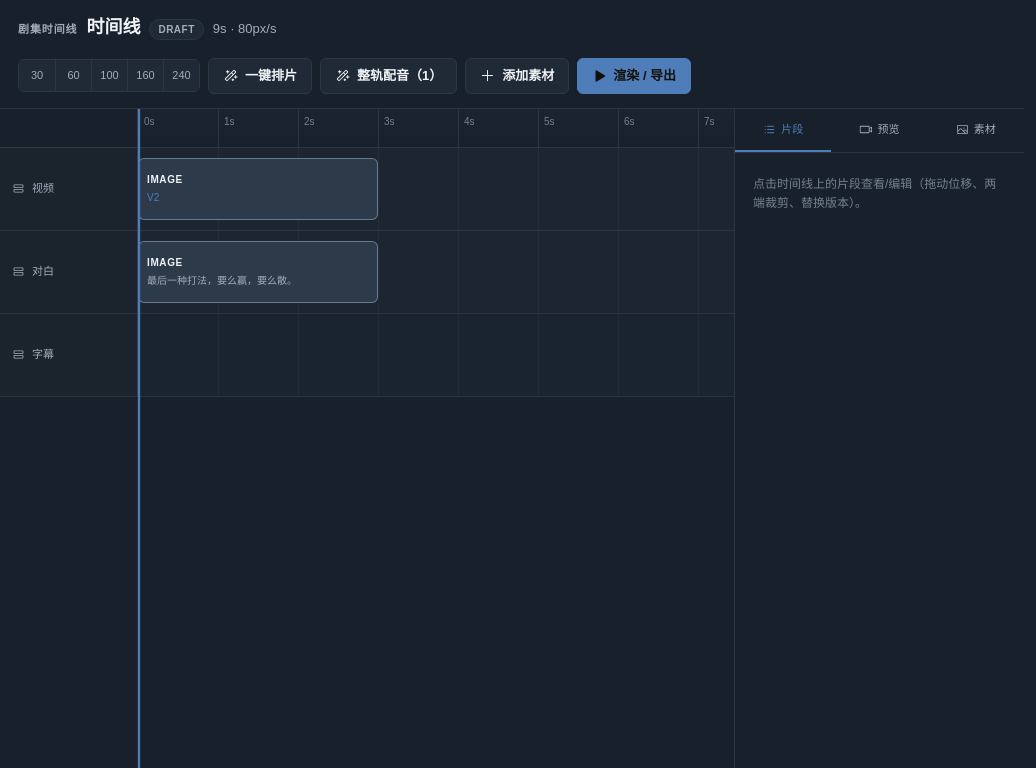
it: TimelineView › C1: batch voiceover is offered for VOICE clips with text and submits
The width and height of the screenshot is (1036, 768).
Click the button "整轨配音（1）" at (389, 76), box [320,58,457,94]
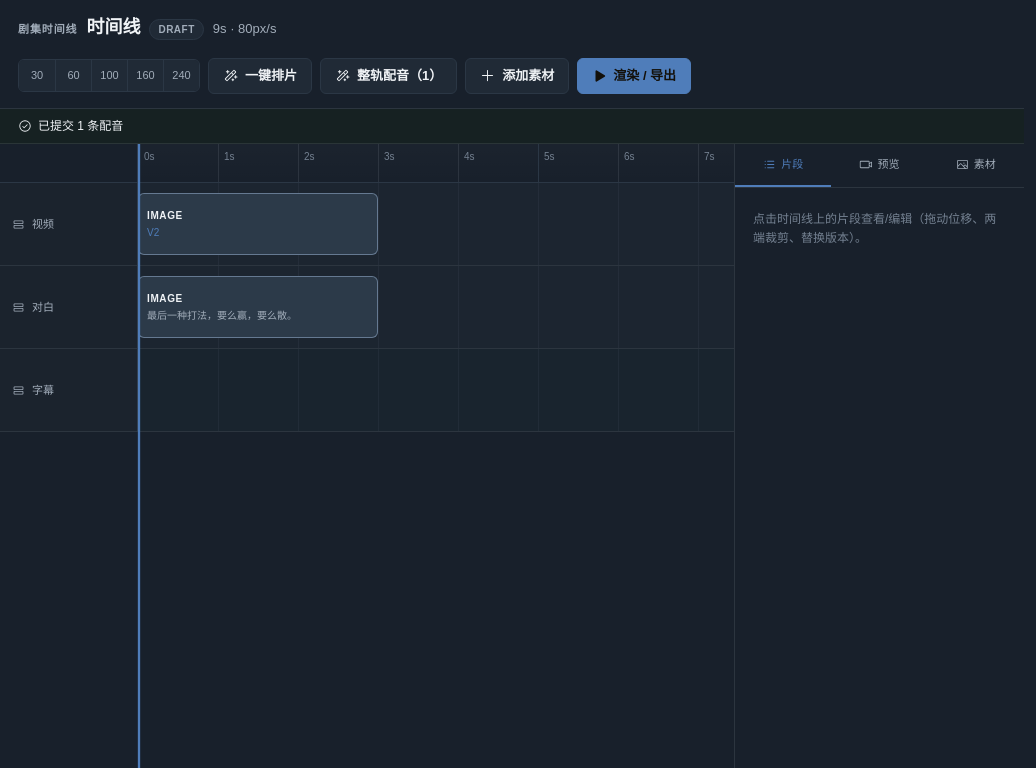
Expected: the text "已提交 1 条配音" is shown, [0,109,1024,144]
